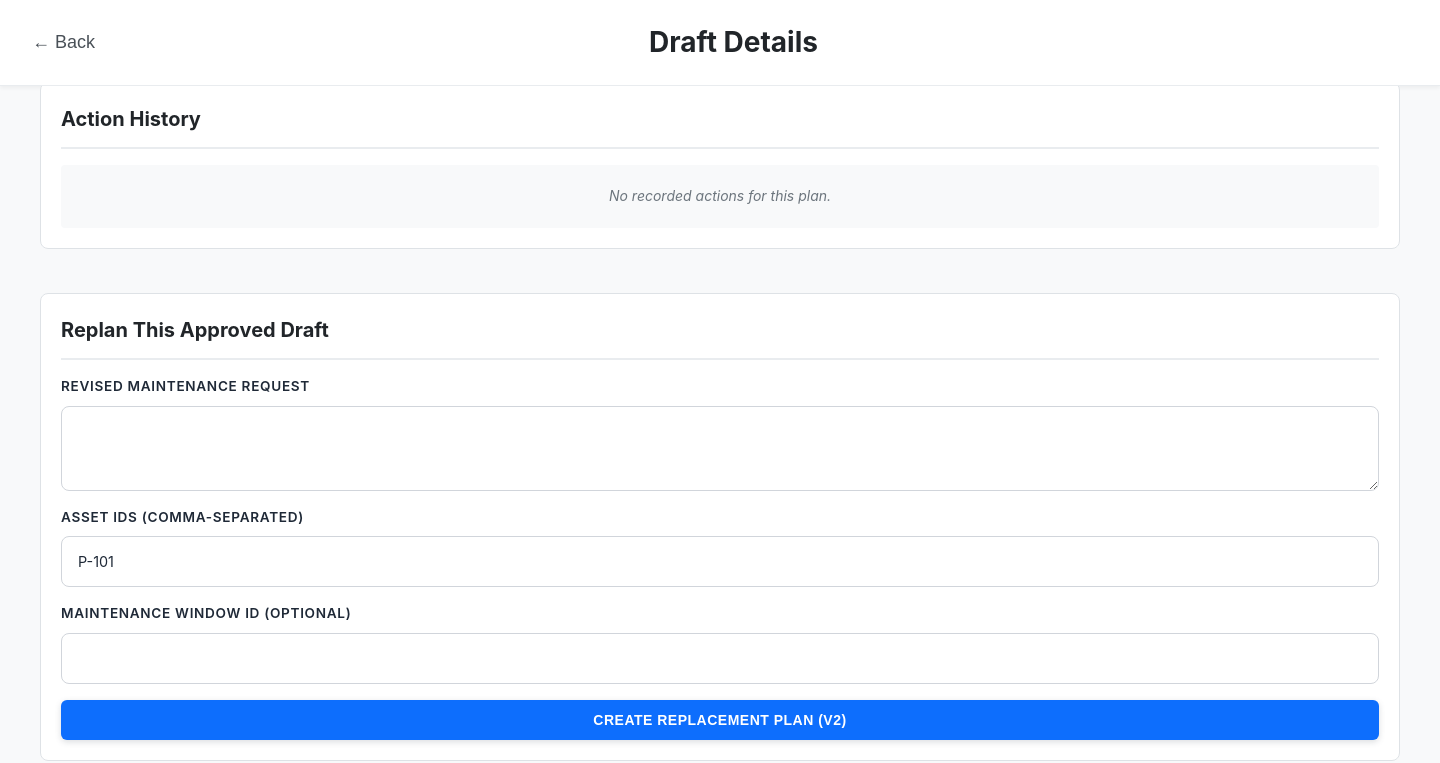
DraftDetailScreen draft management › creates a replacement plan, then shows its planning failures
The width and height of the screenshot is (1440, 763).
(page scrolled)
Type "Revise P-101" into the text box labelled "Revised maintenance request".
click(720, 448); type("Revise P-101")  # box [61, 406, 1379, 491]
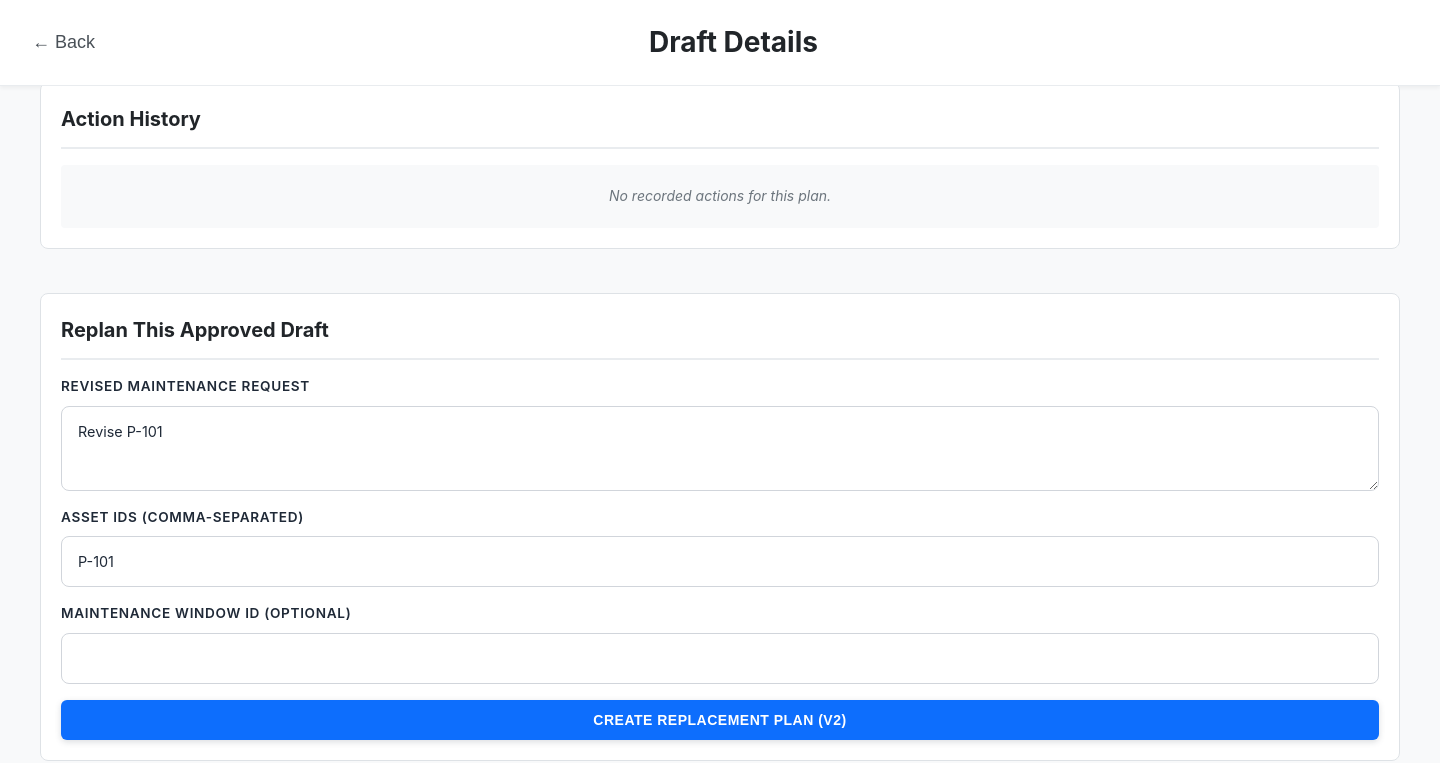
Expected: the field labelled "Asset IDs (comma-separated)" holds "P-101", [61, 536, 1379, 587]
Click the button "Create replacement plan (V2)".
click(720, 720)  # box [61, 700, 1379, 740]
(page scrolled)
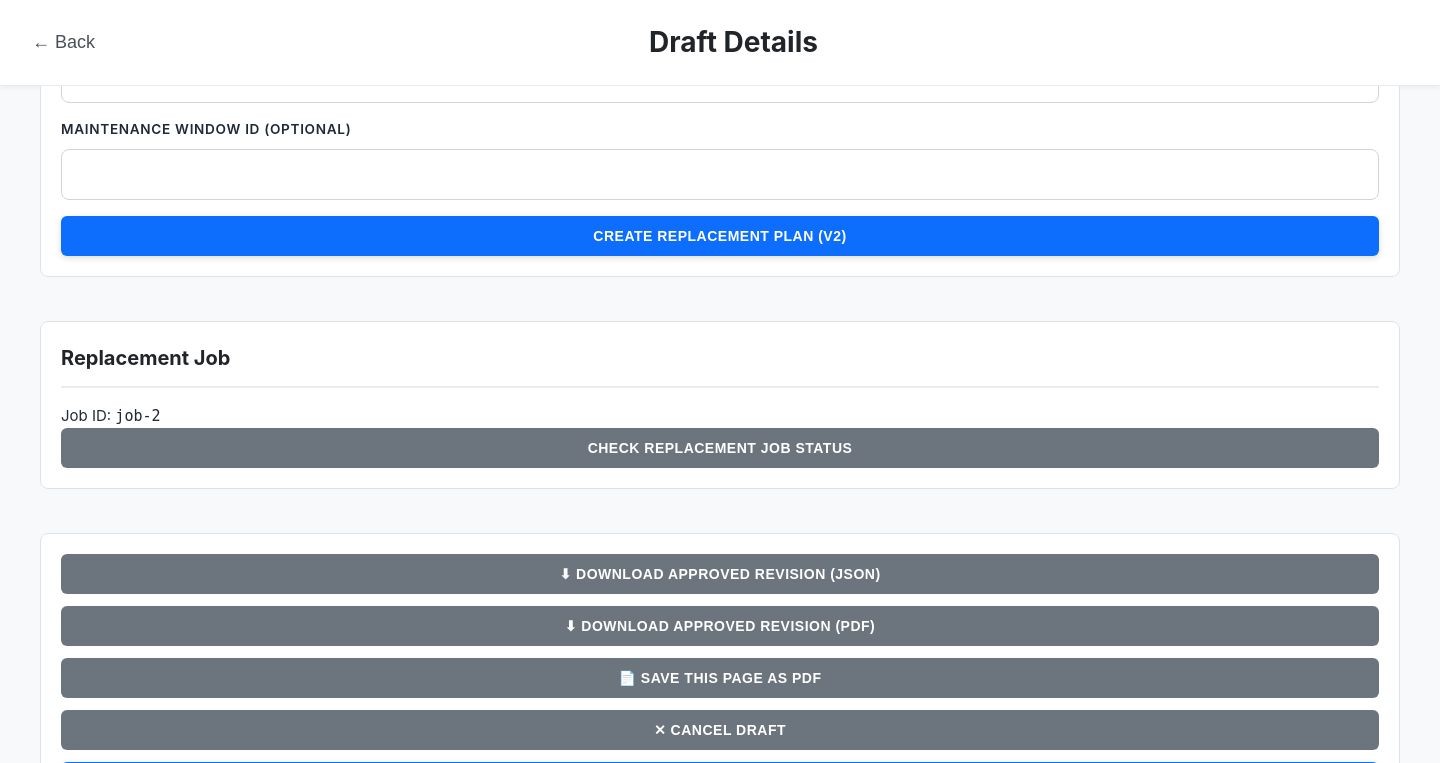
Expected: the element with test id "replan-job" shows "job-2", [115, 407, 161, 425]
Click the button "Check replacement job status".
click(720, 448)  # box [61, 428, 1379, 468]
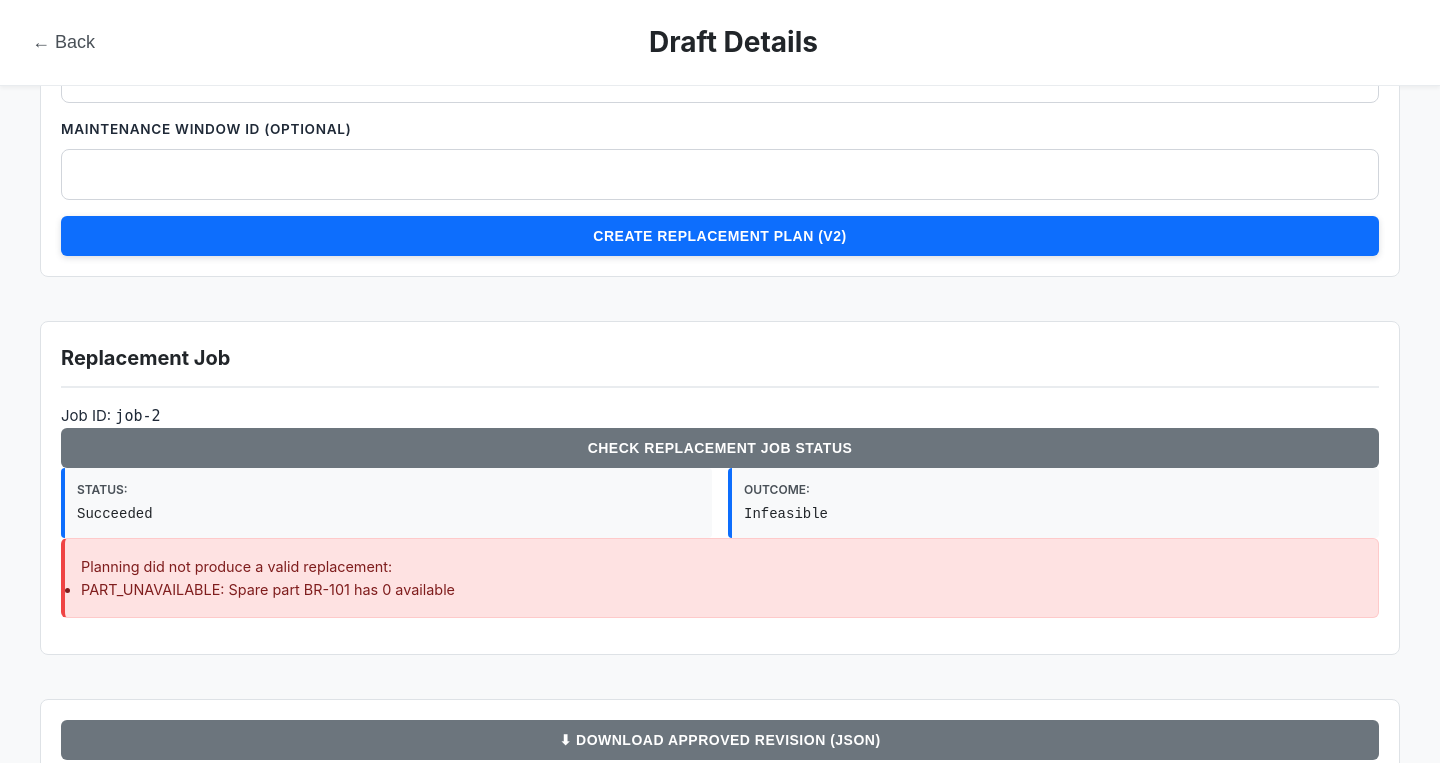
Expected: the element with test id "replan-violations" shows "PART_UNAVAILABLE", [81, 581, 220, 598]
